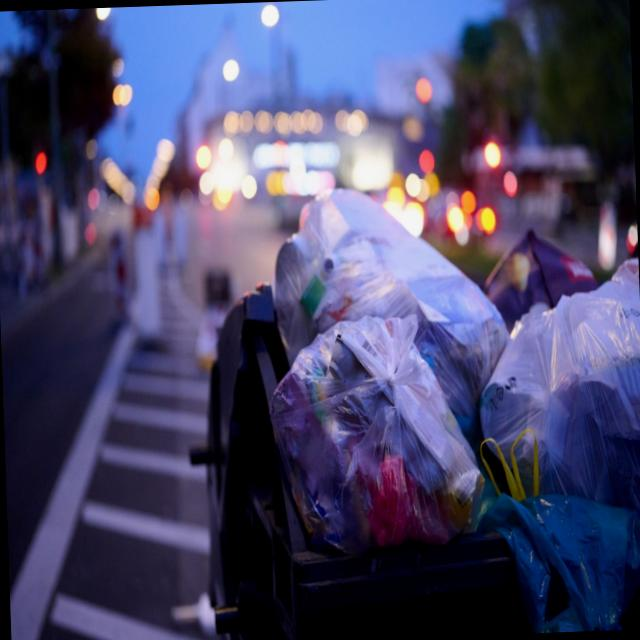garbage: (233, 175, 640, 622)
